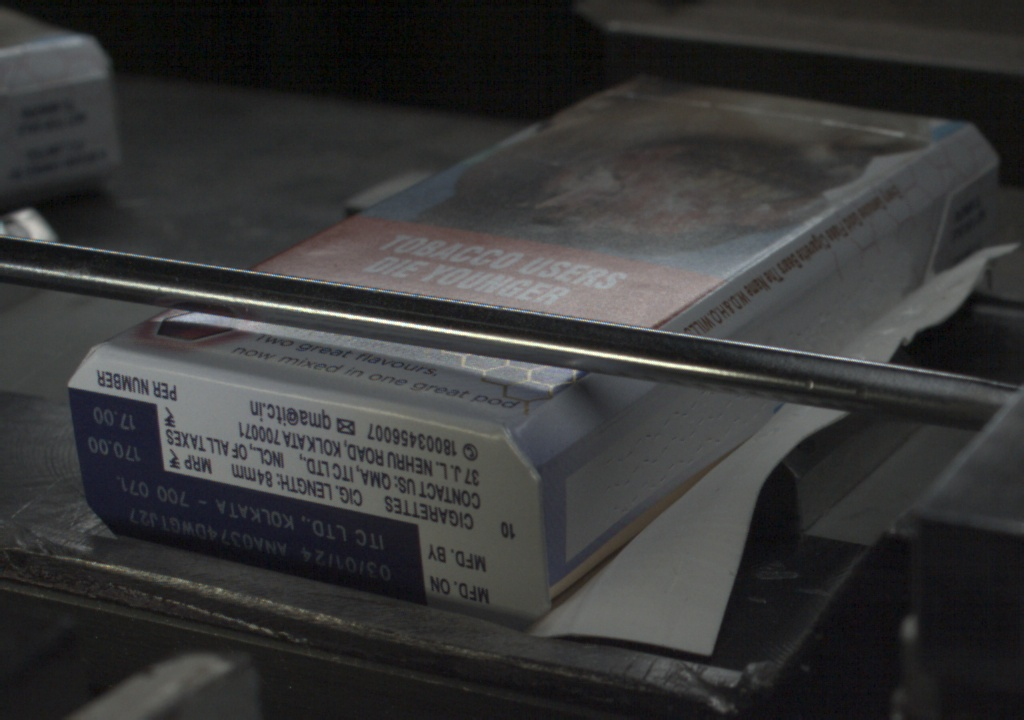g_bottom: (68, 350, 545, 629)
g_label: (76, 469, 427, 600)
g_miter: (946, 154, 1003, 197)
ng_lmiter: (547, 415, 699, 627), (635, 394, 719, 535), (795, 253, 870, 348), (869, 200, 934, 303)
price: (66, 400, 162, 469)
